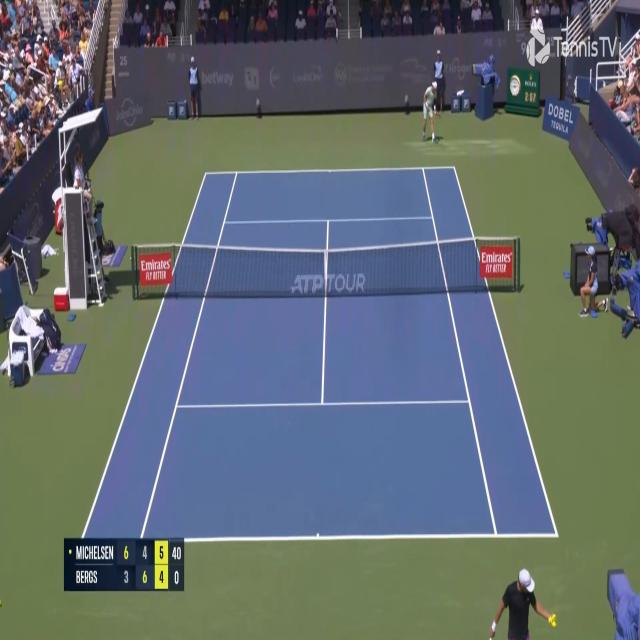tennis-player: (488, 562, 559, 639), (421, 78, 441, 146)
